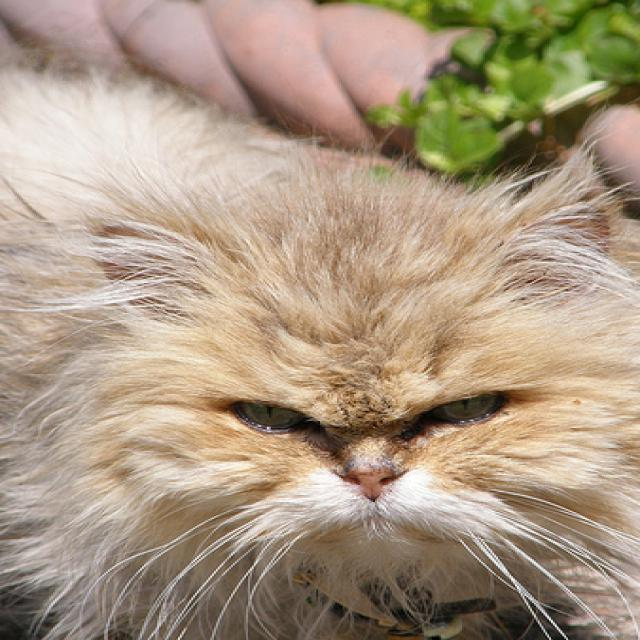Persian: (0, 47, 640, 640)
